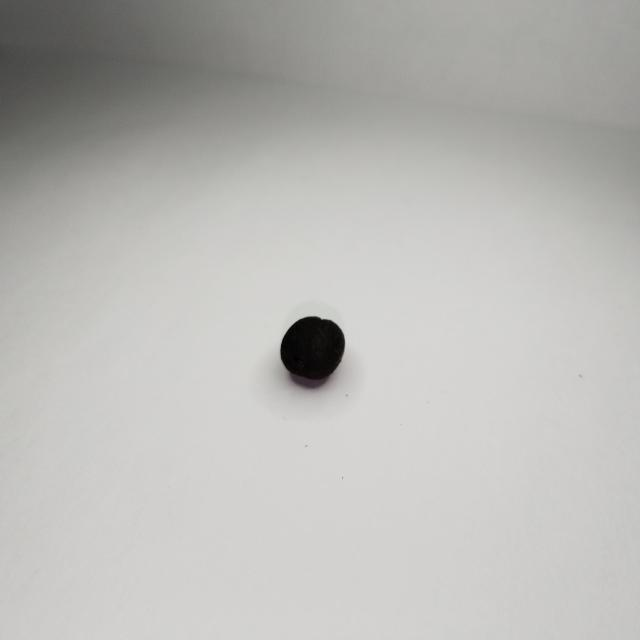Danado: (281, 315, 347, 381)
